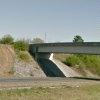Bridge: (30, 34, 96, 63)
